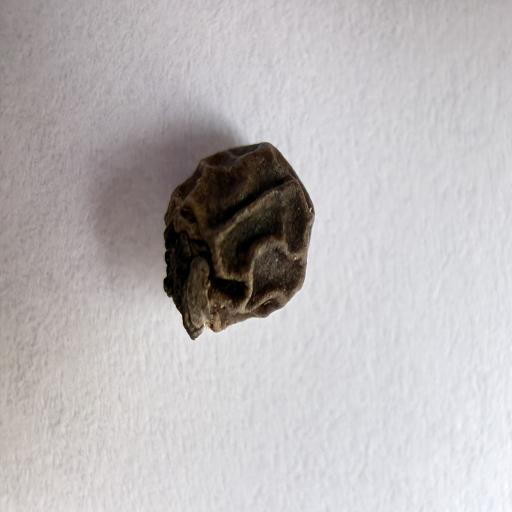Black_pepper: (126, 106, 346, 360)
